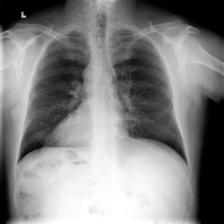normal: (12, 21, 193, 170)
